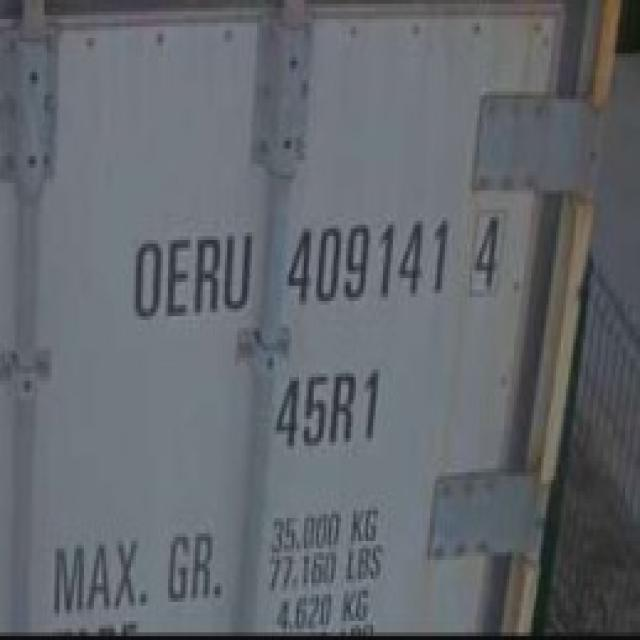dv: (465, 210, 507, 305)
owner: (129, 227, 258, 326)
serial: (284, 214, 453, 314)
size: (274, 368, 386, 456)
